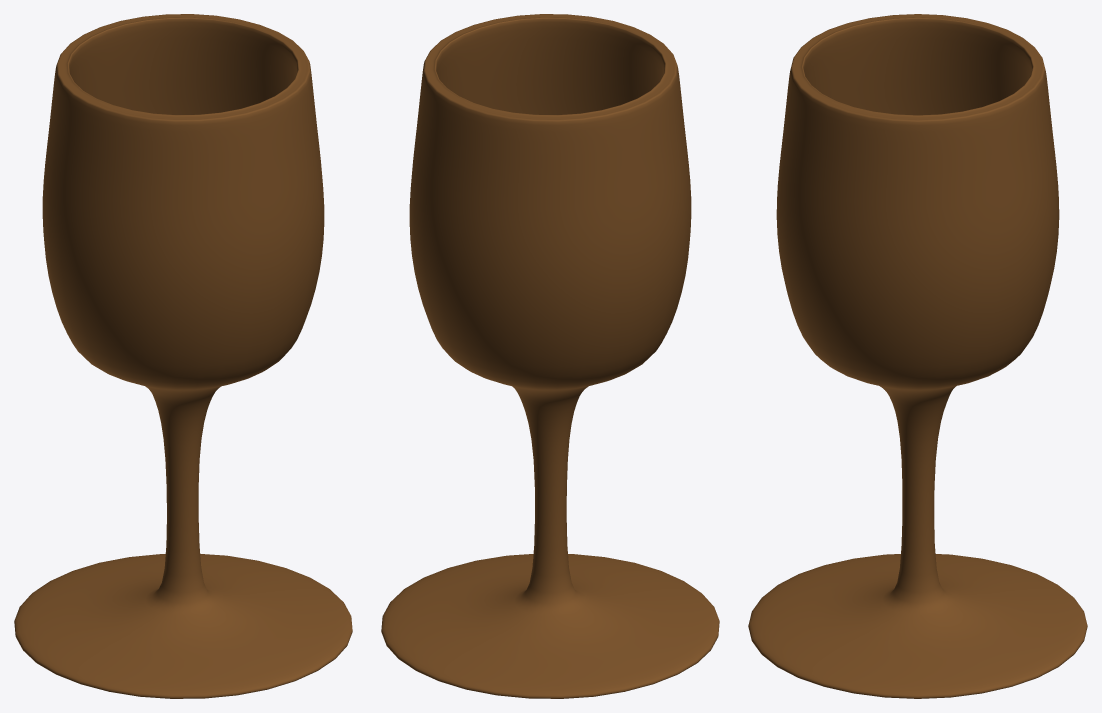
Rendered from cup_0_01.fbx.
3 renders of one model, left to right at view 1: azimuth 30°, elevation 25°; view 2: azimuth 150°, elevation 25°; view 3: azimuth 270°, elevation 25°, orthographic.
Parts seen in each view (by area): view 1: Cylinder; view 2: Cylinder; view 3: Cylinder.
Part boxes in pixels (left/top/right/bottom): Cylinder: left=14, top=14, right=352, bottom=698; Cylinder: left=381, top=14, right=719, bottom=698; Cylinder: left=748, top=14, right=1087, bottom=698.
Bounding box in the file's own units: 1.6 × 2.93 × 1.6.
